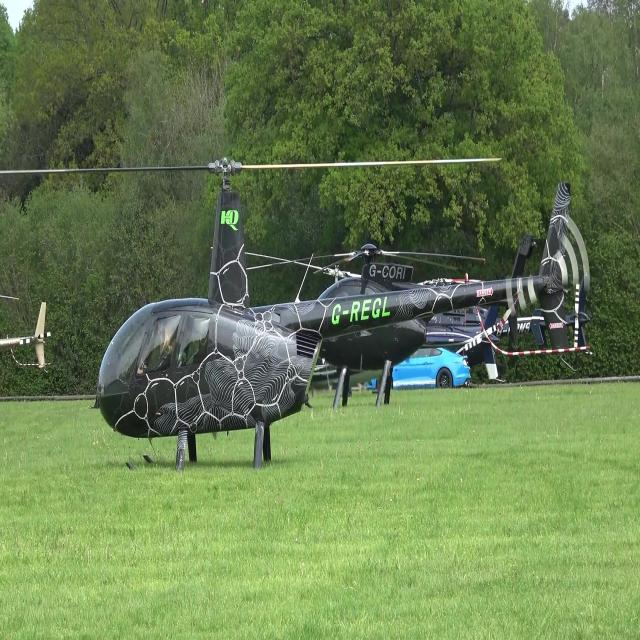CIV_HELO: (93, 153, 573, 488)
